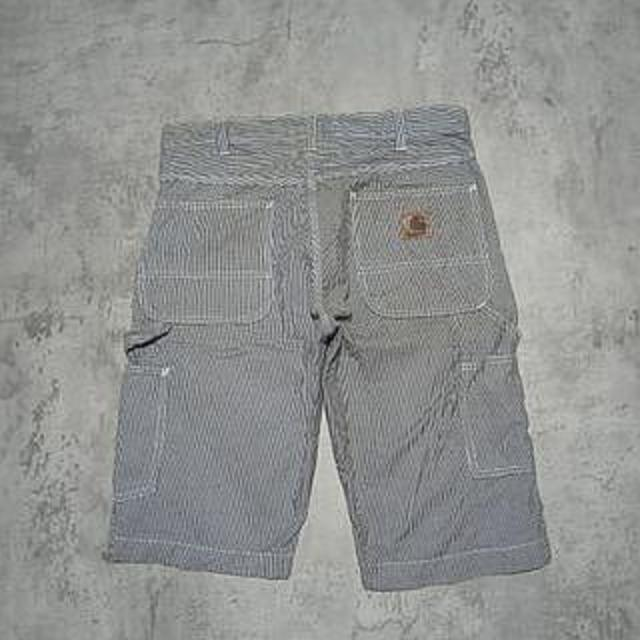TROUSER: (102, 94, 578, 596)
